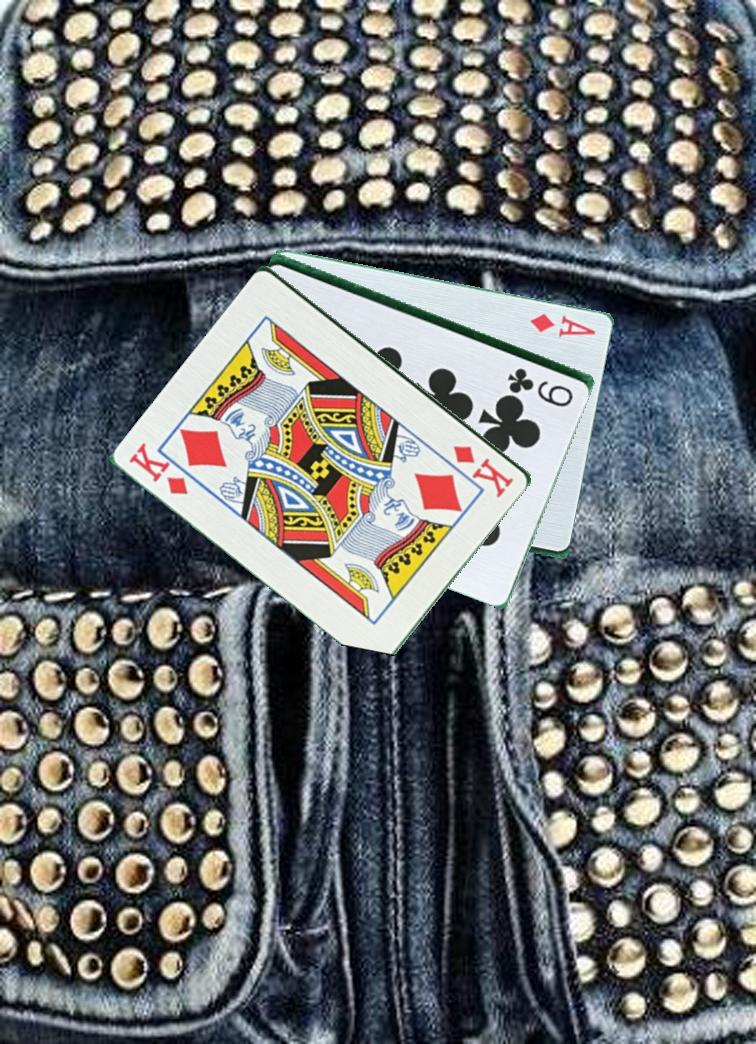9c: (504, 364, 577, 407)
ad: (527, 309, 599, 340)
kd: (126, 439, 192, 498), (450, 441, 518, 498)
